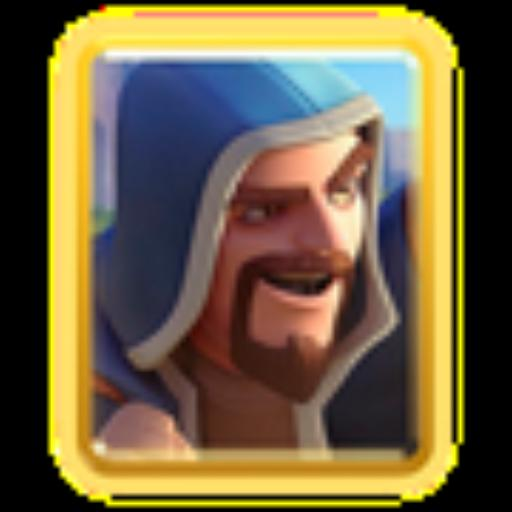wizard: (88, 57, 402, 455)
